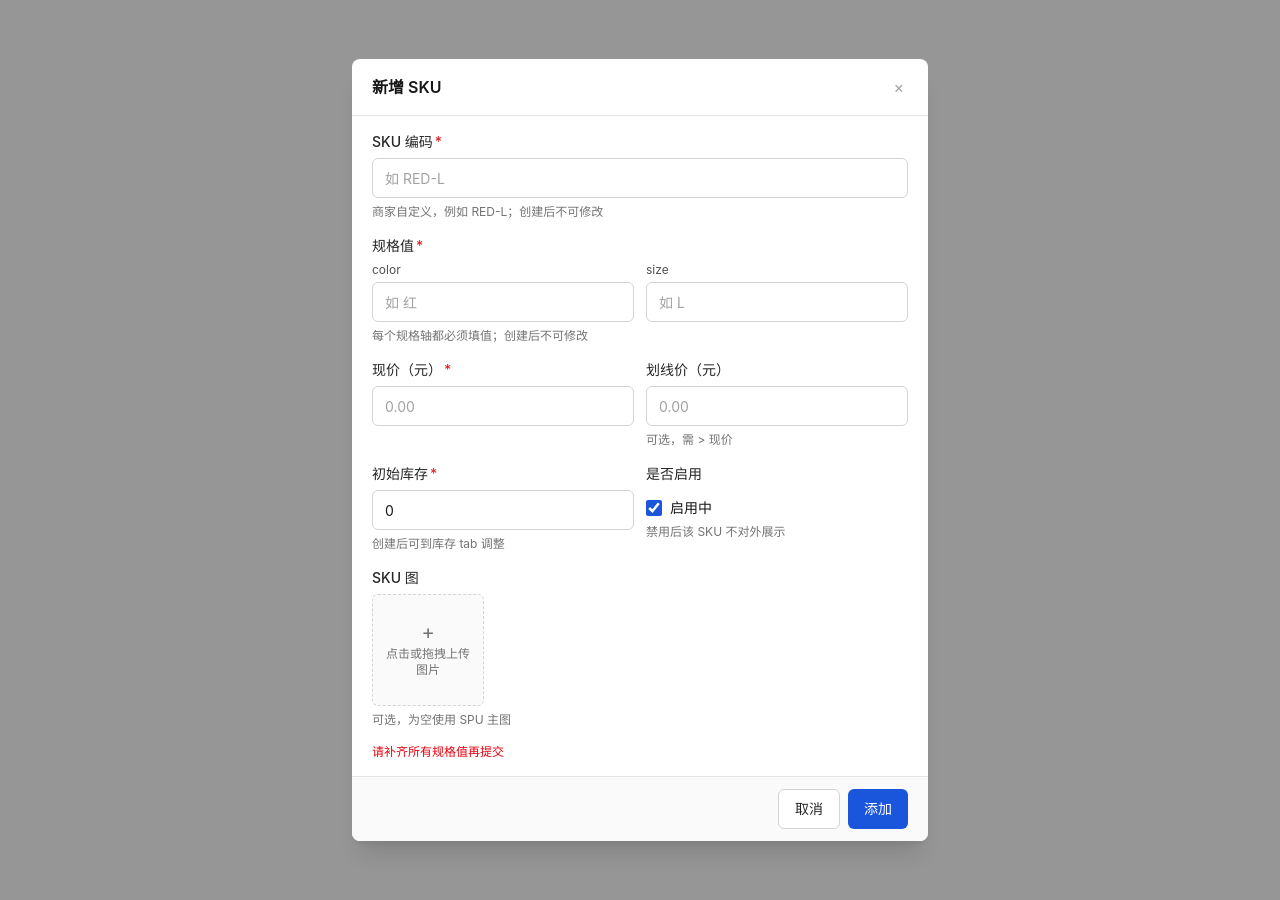
Test: SKUFormModal - 新增 › sku_code 与现有编码重复时报错
In the field with placeholder "如 RED-L": (640, 178) left=372, top=158, right=908, bottom=198, type "RED-L"
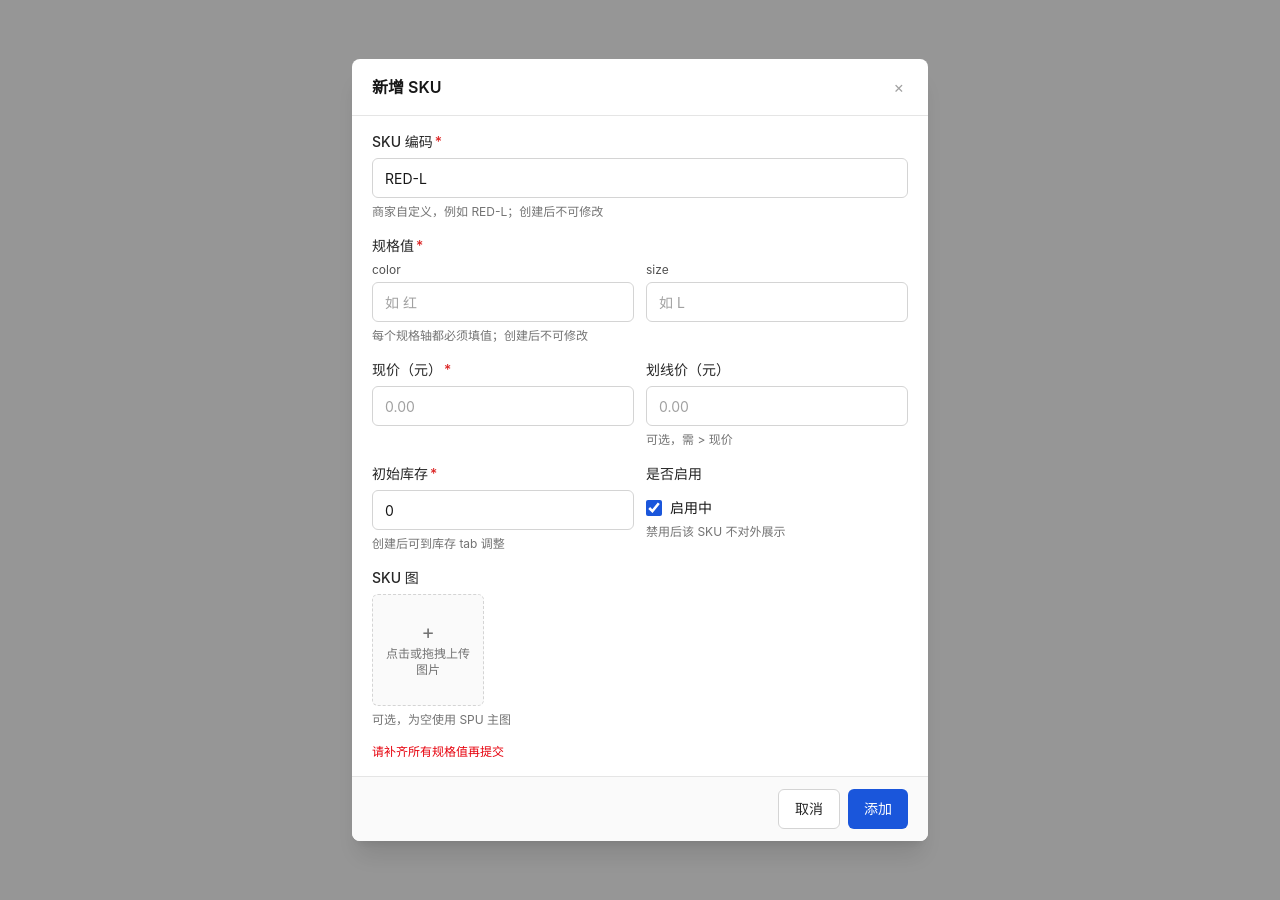
Click the button "添加": click(878, 809) left=848, top=789, right=908, bottom=829
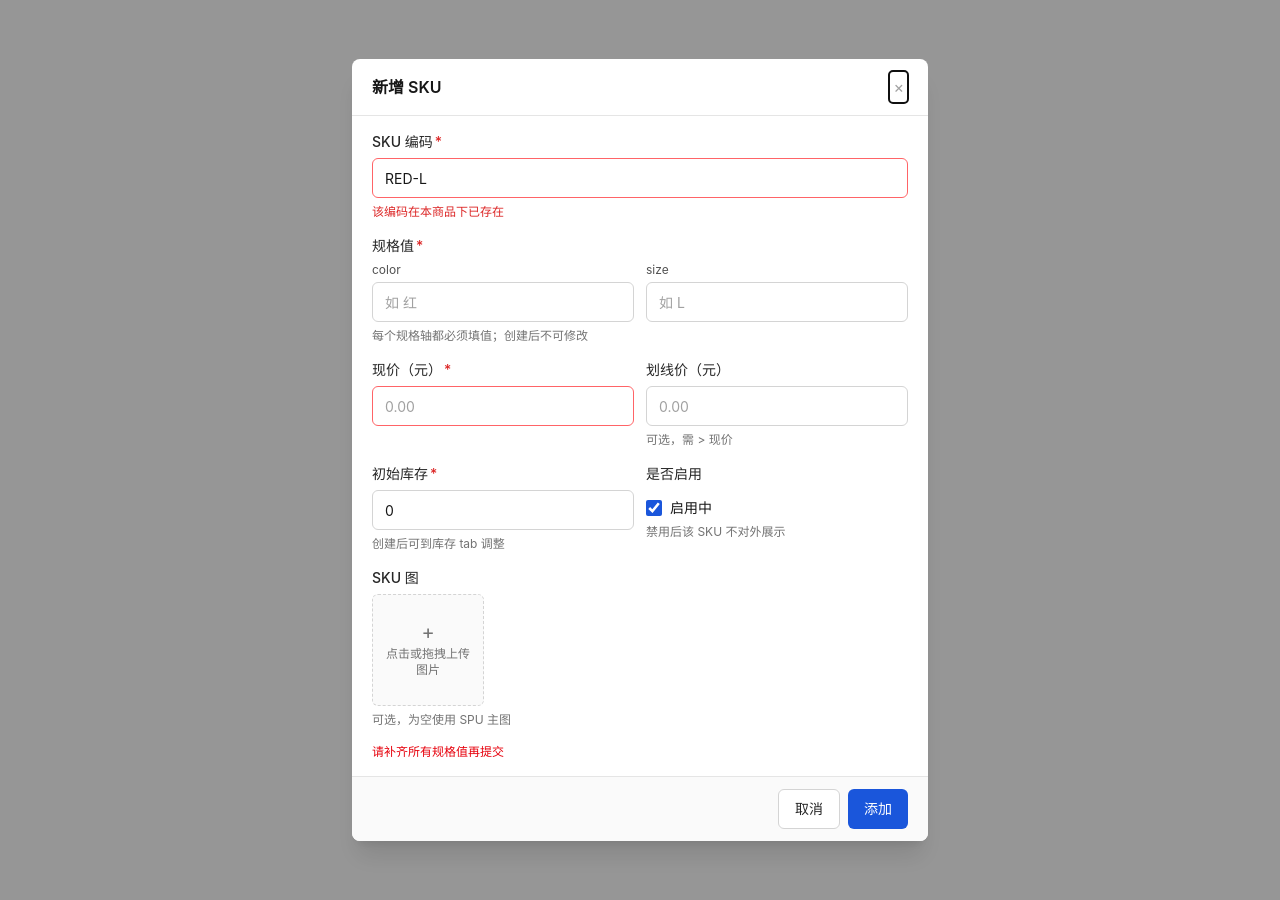
Expected: the text "该编码在本商品下已存在" is shown, left=372, top=204, right=504, bottom=219
